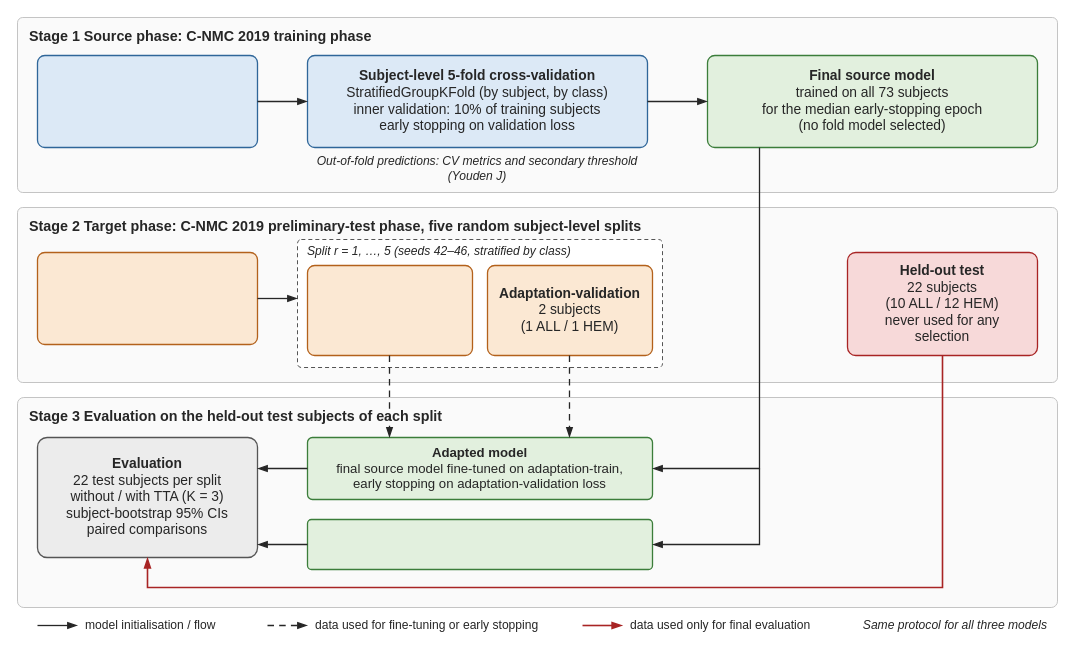
The diagram is 1075 pixels wide and 653 high, and some of its shapes have lost their labels. Here are the shapes that lost their labels. From the top down, the centre of each, then its label:
(x=147, y=101): Training-phase data 73 subjects (47 ALL / 26 HEM) 10,661 cells
(x=147, y=298): Preliminary-test-phase data 28 subjects (13 ALL / 15 HEM) 1,867 cells
(x=389, y=310): Adaptation-train 4 subjects (2 ALL / 2 HEM)
(x=479, y=544): Zero-shot model final source model, no update
